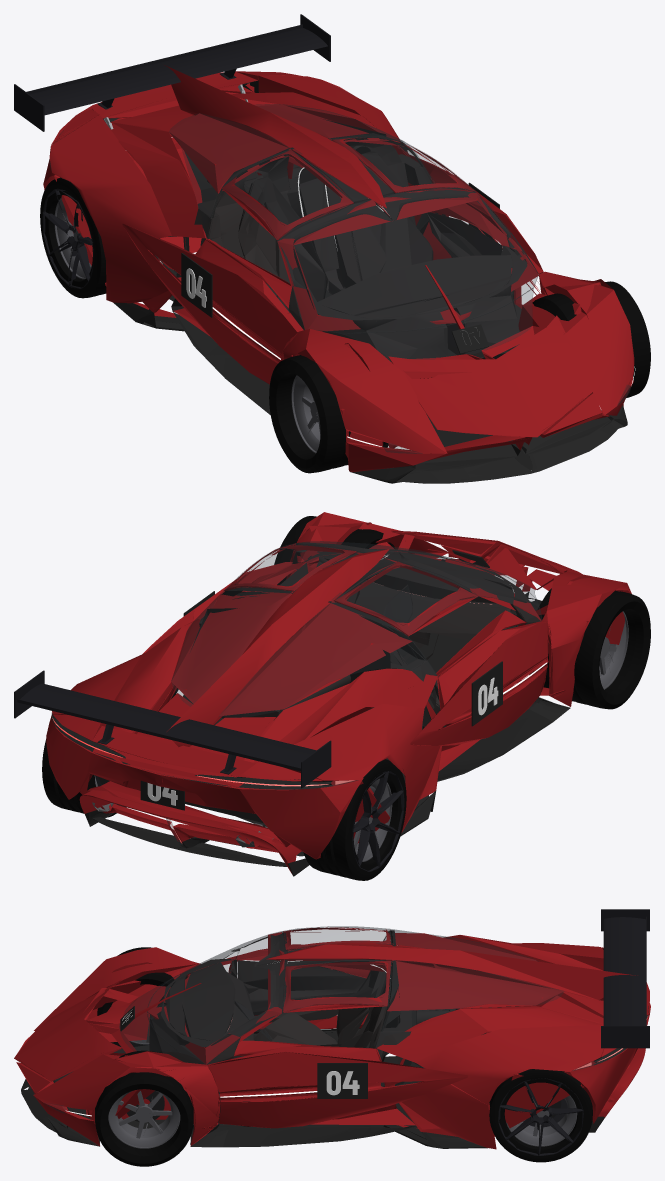
Rendered from vanta-gt4.glb.
3 views of the same model, one above another, from view 1: azimuth 30°, elevation 25°; view 2: azimuth 150°, elevation 25°; view 3: azimuth 270°, elevation 25° (orthographic). The views are drawn at different scales.
Visible parts, largest first — view 1: Body, Wheel_FR, Wheel_RR, Wheel_FL; view 2: Body, Wheel_FR, Wheel_RR, Wheel_FL, Wheel_RL; view 3: Body, Wheel_FL, Wheel_RL, Wheel_FR.
Part boxes in pixels (x1=…): Body: x1=14, y1=14, x2=635, y2=483; Wheel_FR: x1=269, y1=355, x2=388, y2=473; Wheel_RR: x1=40, y1=177, x2=106, y2=298; Wheel_FL: x1=532, y1=281, x2=650, y2=397; Body: x1=14, y1=512, x2=631, y2=876; Wheel_FR: x1=529, y1=588, x2=650, y2=709; Wheel_RR: x1=303, y1=759, x2=406, y2=880; Wheel_FL: x1=274, y1=516, x2=394, y2=585; Wheel_RL: x1=42, y1=739, x2=119, y2=817; Body: x1=14, y1=909, x2=650, y2=1155; Wheel_FL: x1=95, y1=1050, x2=193, y2=1166; Wheel_RL: x1=489, y1=1069, x2=592, y2=1162; Wheel_FR: x1=97, y1=947, x2=187, y2=1046.
Size of the model in its own units: 2.25 by 1.24 by 4.54.
6 materials, 1 textured.
